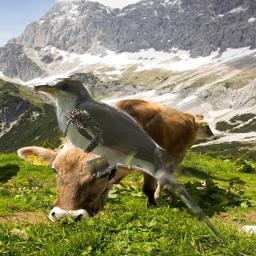Cuckoo: (33, 78, 224, 242)
